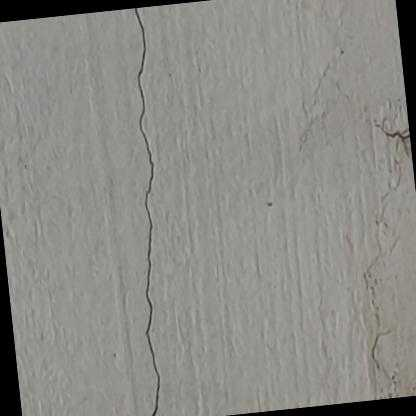crack: (133, 6, 159, 416)
